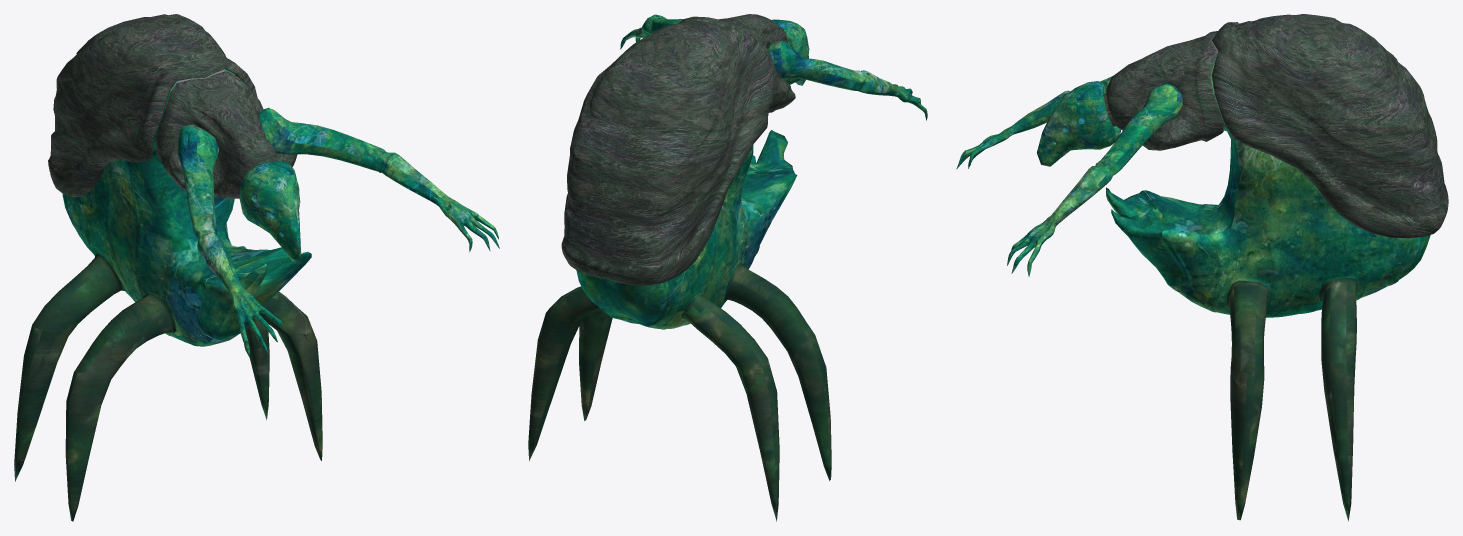
Rendered from Aranar.0020.obj.
3 views of the same model, side by side, from view 1: azimuth 30°, elevation 25°; view 2: azimuth 150°, elevation 25°; view 3: azimuth 270°, elevation 25° (orthographic).
Bounding box in the file's own units: 2.89 × 3.81 × 3.89.
Materials: 5 (4 with a texture image).
